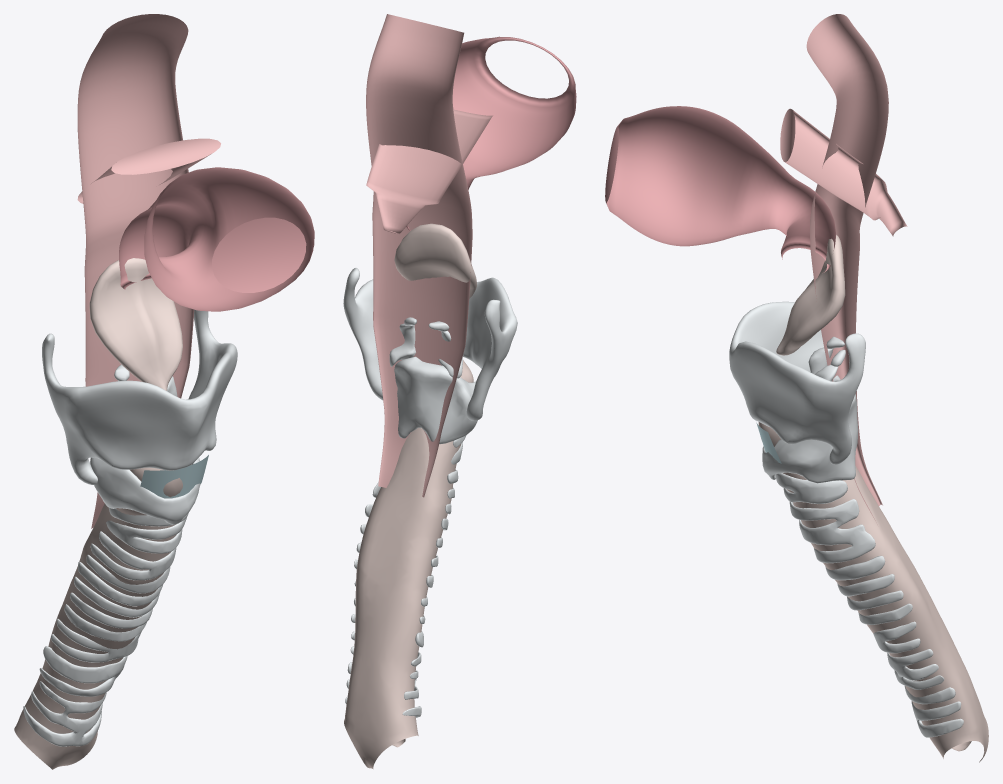
The model's file is upper-airway.glb.
3 views of the same model, side by side, from view 1: azimuth 30°, elevation 25°; view 2: azimuth 150°, elevation 25°; view 3: azimuth 270°, elevation 25° (orthographic). The views are drawn at different scales.
Visible parts, largest first — view 1: pharynx, tongue, thyroid_cartilage, tracheal_rings, trachea, epiglottis, cricoid_cartilage, soft_palate, cricothyroid_membrane; view 2: pharynx, trachea, tongue, thyroid_cartilage, soft_palate, cricoid_cartilage, epiglottis, tracheal_rings, arytenoid_L; view 3: tongue, pharynx, thyroid_cartilage, trachea, tracheal_rings, soft_palate, epiglottis, cricoid_cartilage.
Part boxes in pixels (bbox=[...]): pharynx: bbox=[77, 14, 194, 528]; tongue: bbox=[119, 167, 314, 311]; thyroid_cartilage: bbox=[42, 309, 237, 484]; tracheal_rings: bbox=[23, 507, 188, 746]; trachea: bbox=[14, 464, 191, 769]; epiglottis: bbox=[89, 258, 182, 390]; cricoid_cartilage: bbox=[90, 457, 200, 524]; soft_palate: bbox=[77, 138, 220, 203]; cricothyroid_membrane: bbox=[140, 455, 208, 498]; pharynx: bbox=[366, 14, 472, 497]; trachea: bbox=[344, 360, 473, 769]; tongue: bbox=[406, 36, 576, 230]; thyroid_cartilage: bbox=[343, 268, 517, 420]; soft_palate: bbox=[366, 109, 492, 234]; cricoid_cartilage: bbox=[394, 356, 477, 444]; epiglottis: bbox=[394, 223, 476, 298]; tracheal_rings: bbox=[345, 436, 465, 717]; arytenoid_L: bbox=[389, 323, 415, 366]; tongue: bbox=[605, 106, 835, 272]; pharynx: bbox=[806, 14, 888, 524]; thyroid_cartilage: bbox=[729, 282, 865, 464]; trachea: bbox=[758, 422, 988, 762]; tracheal_rings: bbox=[775, 473, 963, 737]; soft_palate: bbox=[780, 108, 907, 236]; epiglottis: bbox=[776, 234, 845, 355]; cricoid_cartilage: bbox=[762, 394, 858, 483].
Size of the model in its own units: 0.5375 by 2.34 by 1.08.
